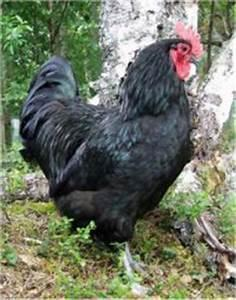hen: (17, 20, 204, 280)
